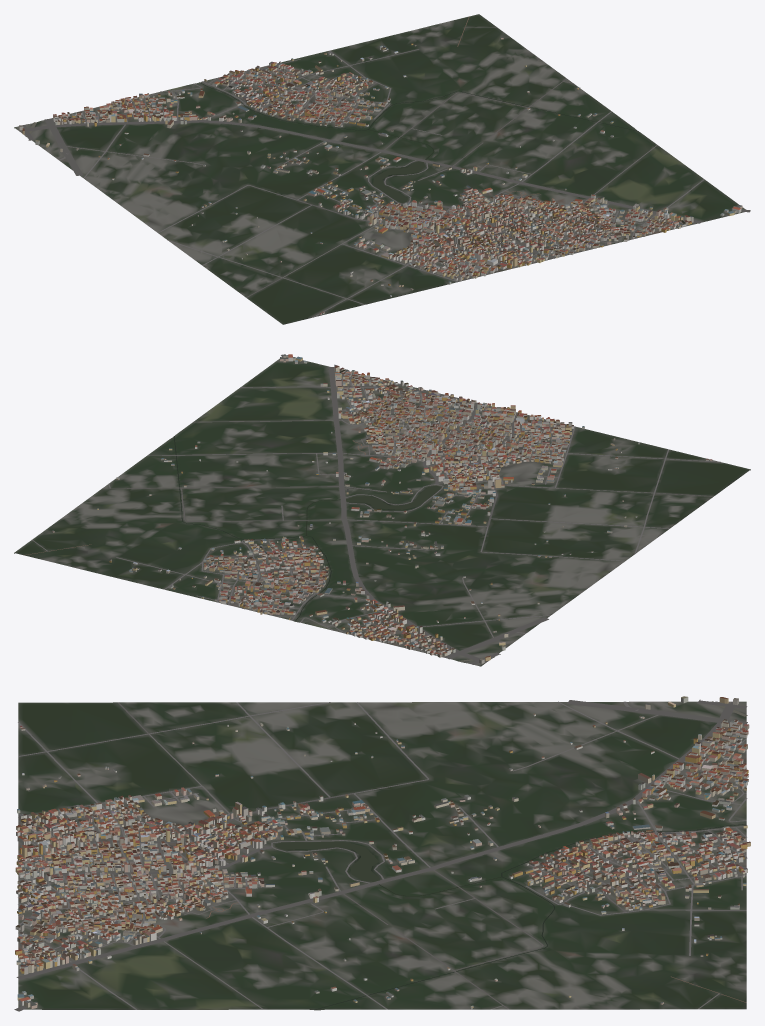
3 renders of one model, top to bottom at view 1: azimuth 30°, elevation 25°; view 2: azimuth 150°, elevation 25°; view 3: azimuth 270°, elevation 25°, orthographic. The views are drawn at different scales.
Visible parts, largest first — view 1: ground, buildings, roads, water; view 2: ground, buildings, roads, water; view 3: ground, buildings, roads, water.
Part boxes in pixels (box(x1,y1,x2,y2)): ground: box(14, 14, 745, 324); buildings: box(19, 37, 742, 314); roads: box(19, 16, 750, 317); water: box(25, 82, 638, 202); ground: box(14, 357, 750, 666); buildings: box(52, 354, 712, 663); roads: box(24, 354, 720, 664); water: box(174, 436, 494, 661); ground: box(18, 701, 746, 1010); buildings: box(15, 696, 750, 1009); roads: box(14, 699, 747, 1011); water: box(275, 701, 747, 1009).
Size of the model in its own units: 1418 by 28.47 by 1418.
